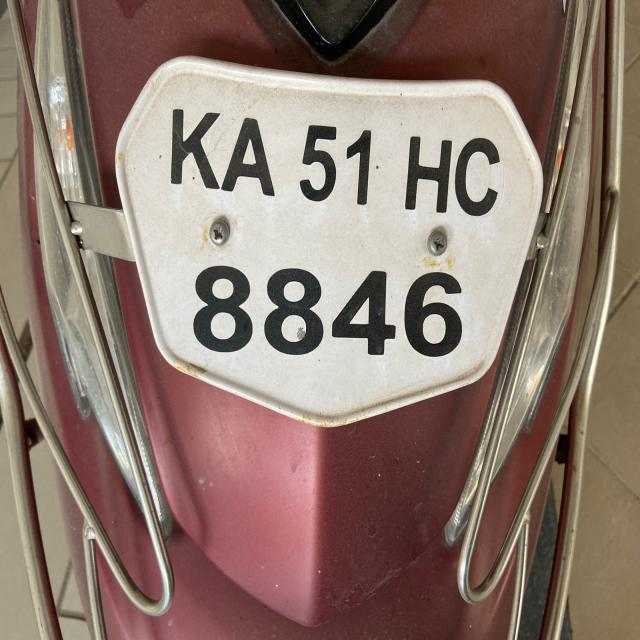1: (342, 119, 379, 214)
4: (327, 262, 401, 362)
5: (294, 111, 341, 207)
6: (401, 260, 465, 359)
8: (184, 255, 255, 351), (259, 258, 328, 354)
A: (222, 108, 276, 203)
C: (454, 126, 503, 222)
H: (401, 124, 453, 223)
K: (166, 102, 222, 193)
